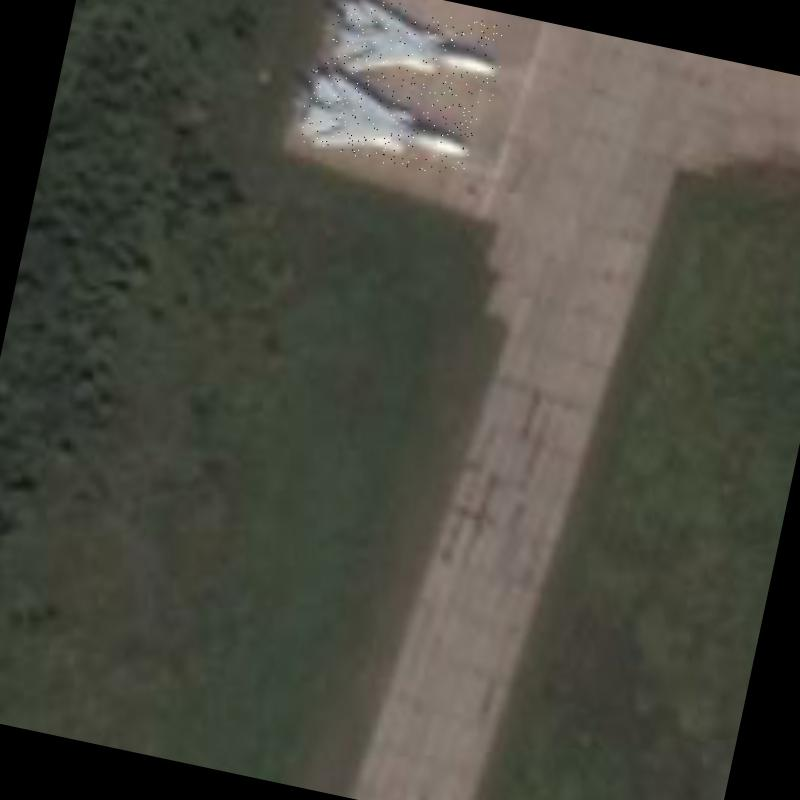A20: (293, 64, 481, 180), (323, 0, 509, 102)
